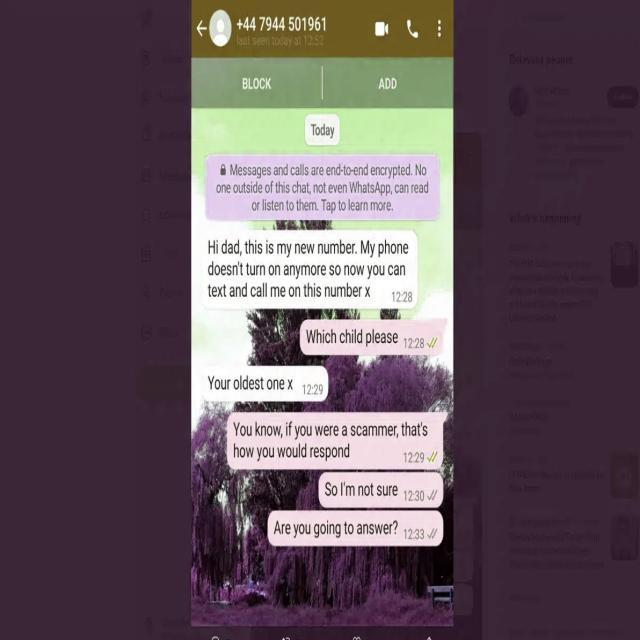scam: (200, 236, 417, 309), (197, 366, 305, 398)
